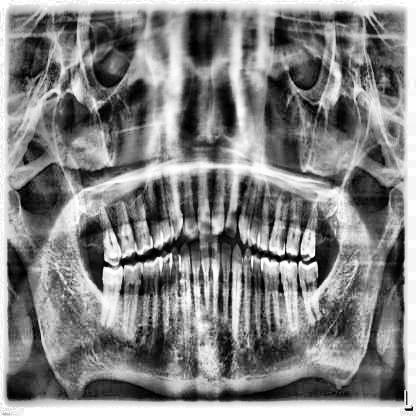Mandible: (6, 151, 408, 401)
Maxilla: (95, 147, 324, 268)
